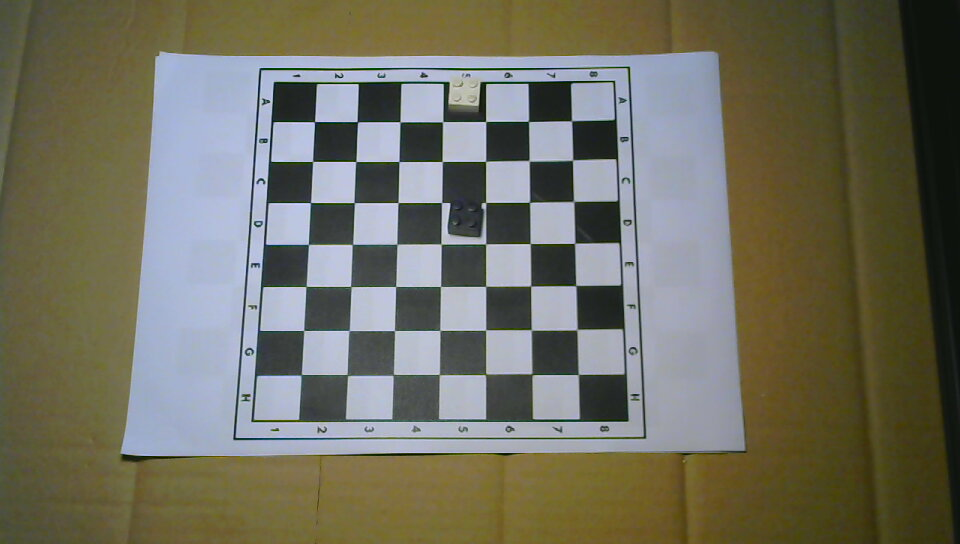bp: (447, 197, 485, 238)
wp: (446, 74, 482, 114)
